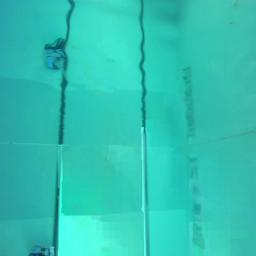Side: (27, 245, 56, 256)
